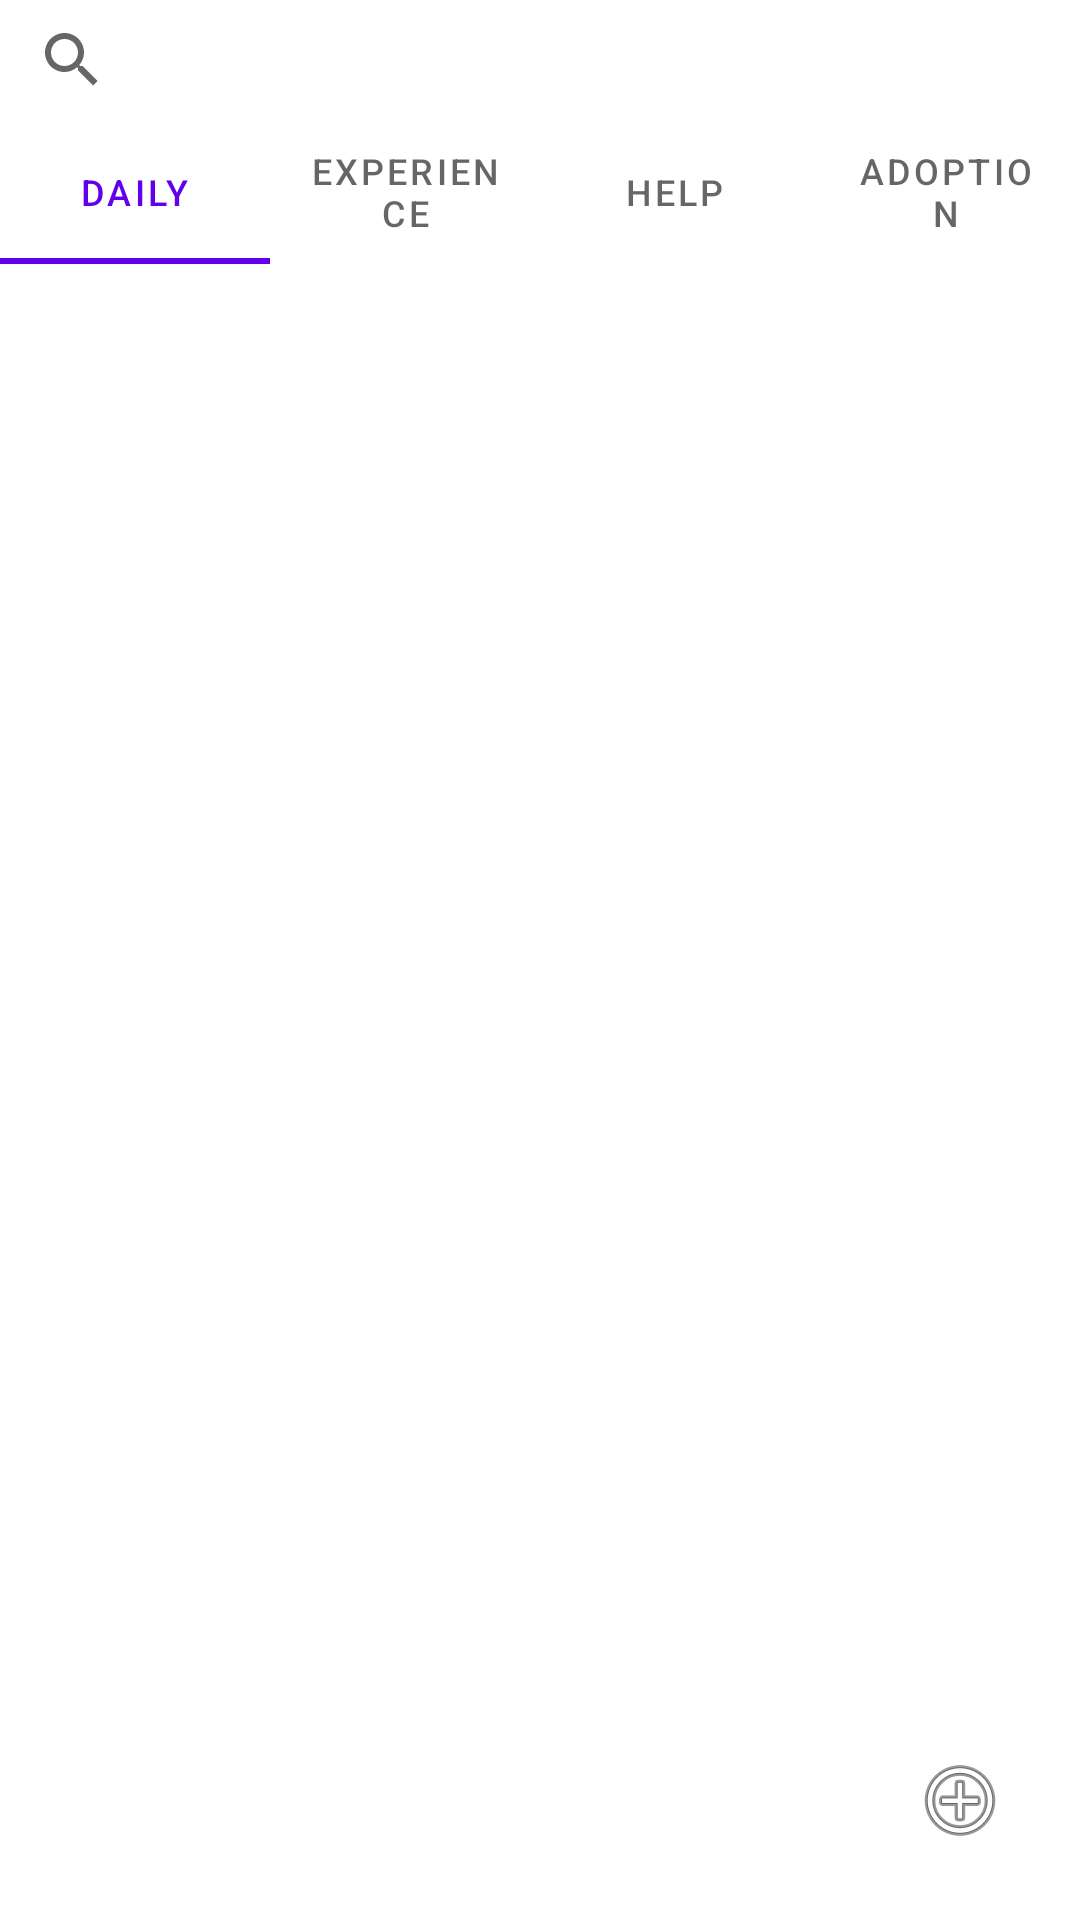

Point at icon controls on the screen. Image size 1080×1920, points as (x=x, y=y).
add: (x=960, y=1800)
